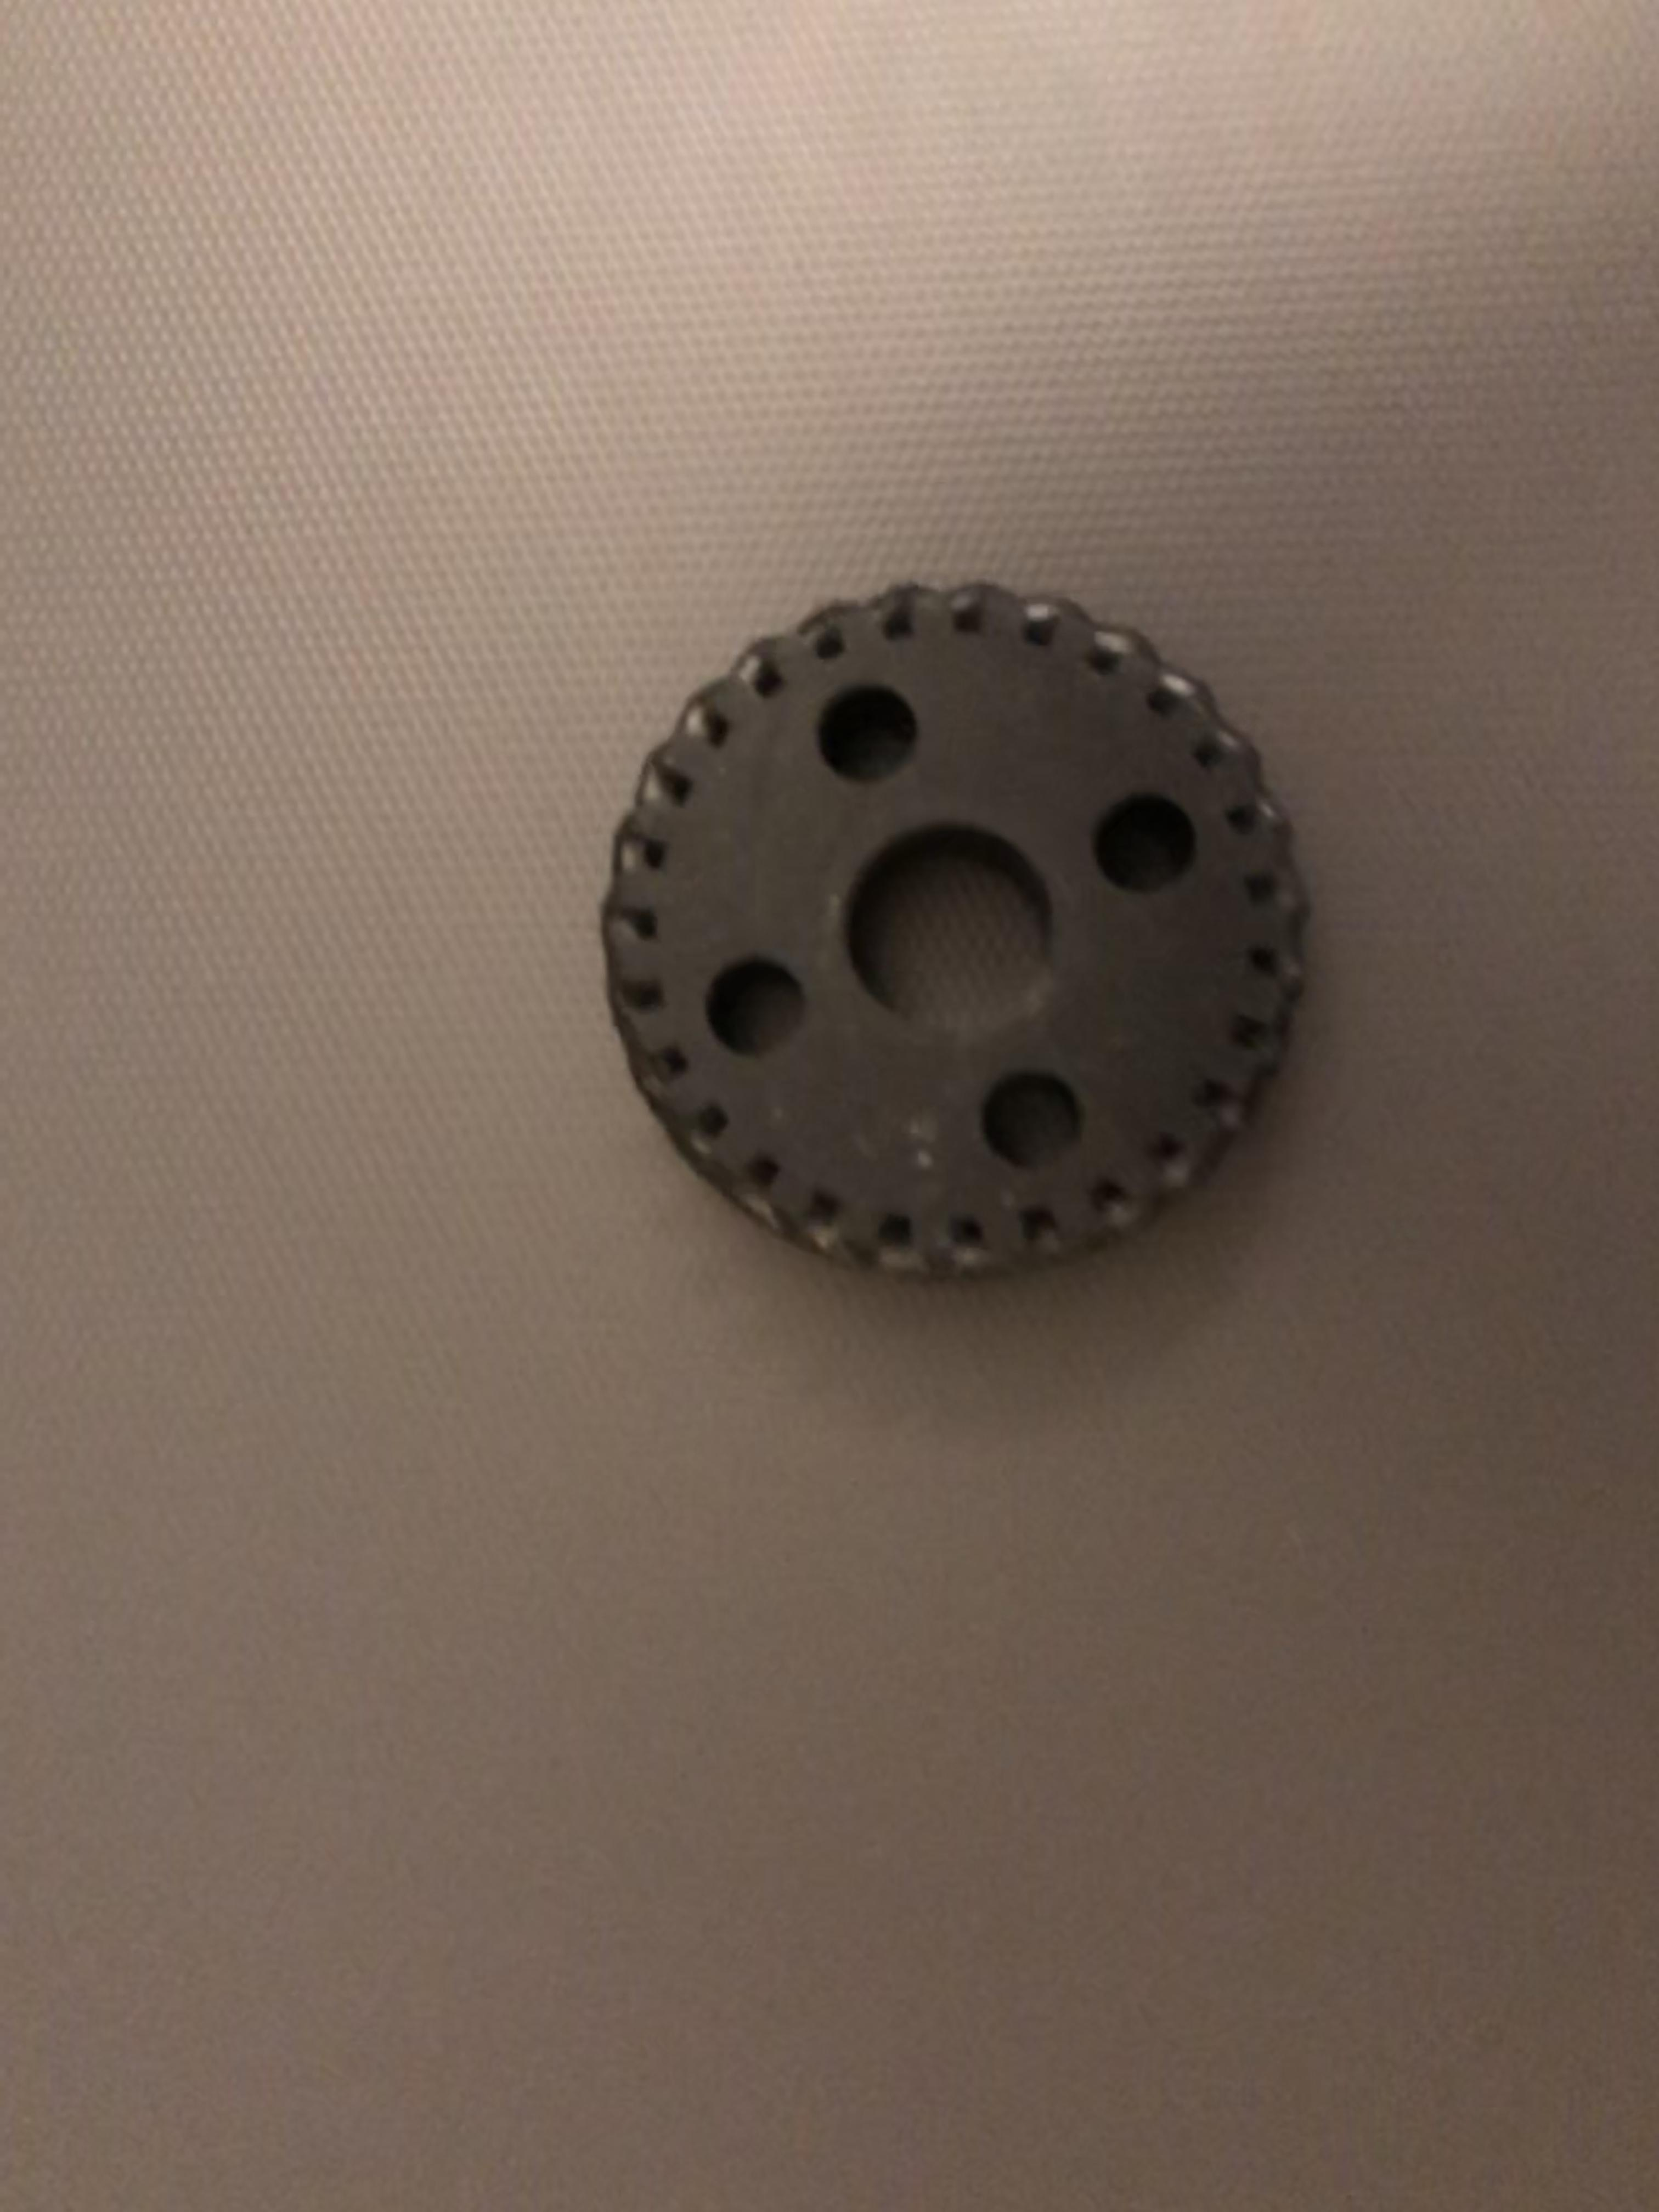Wheel: (591, 566, 1324, 1313)
